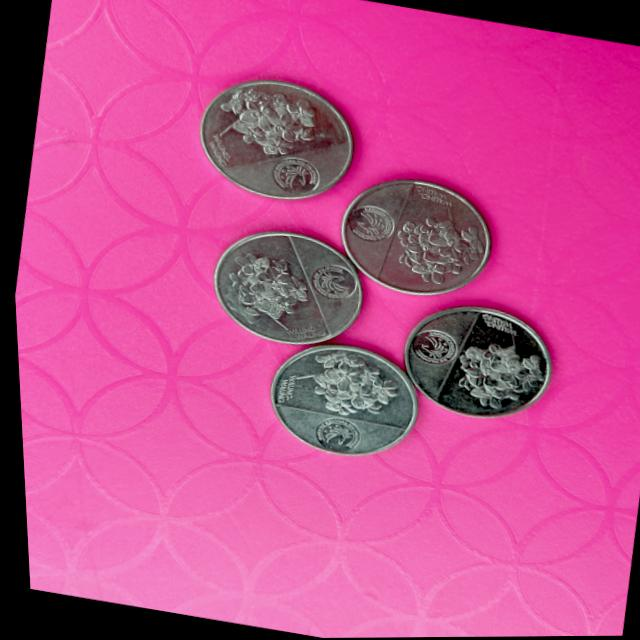1_New_Back: (213, 235, 324, 344), (215, 77, 335, 167), (293, 345, 414, 433), (385, 197, 489, 293), (443, 331, 540, 417)
